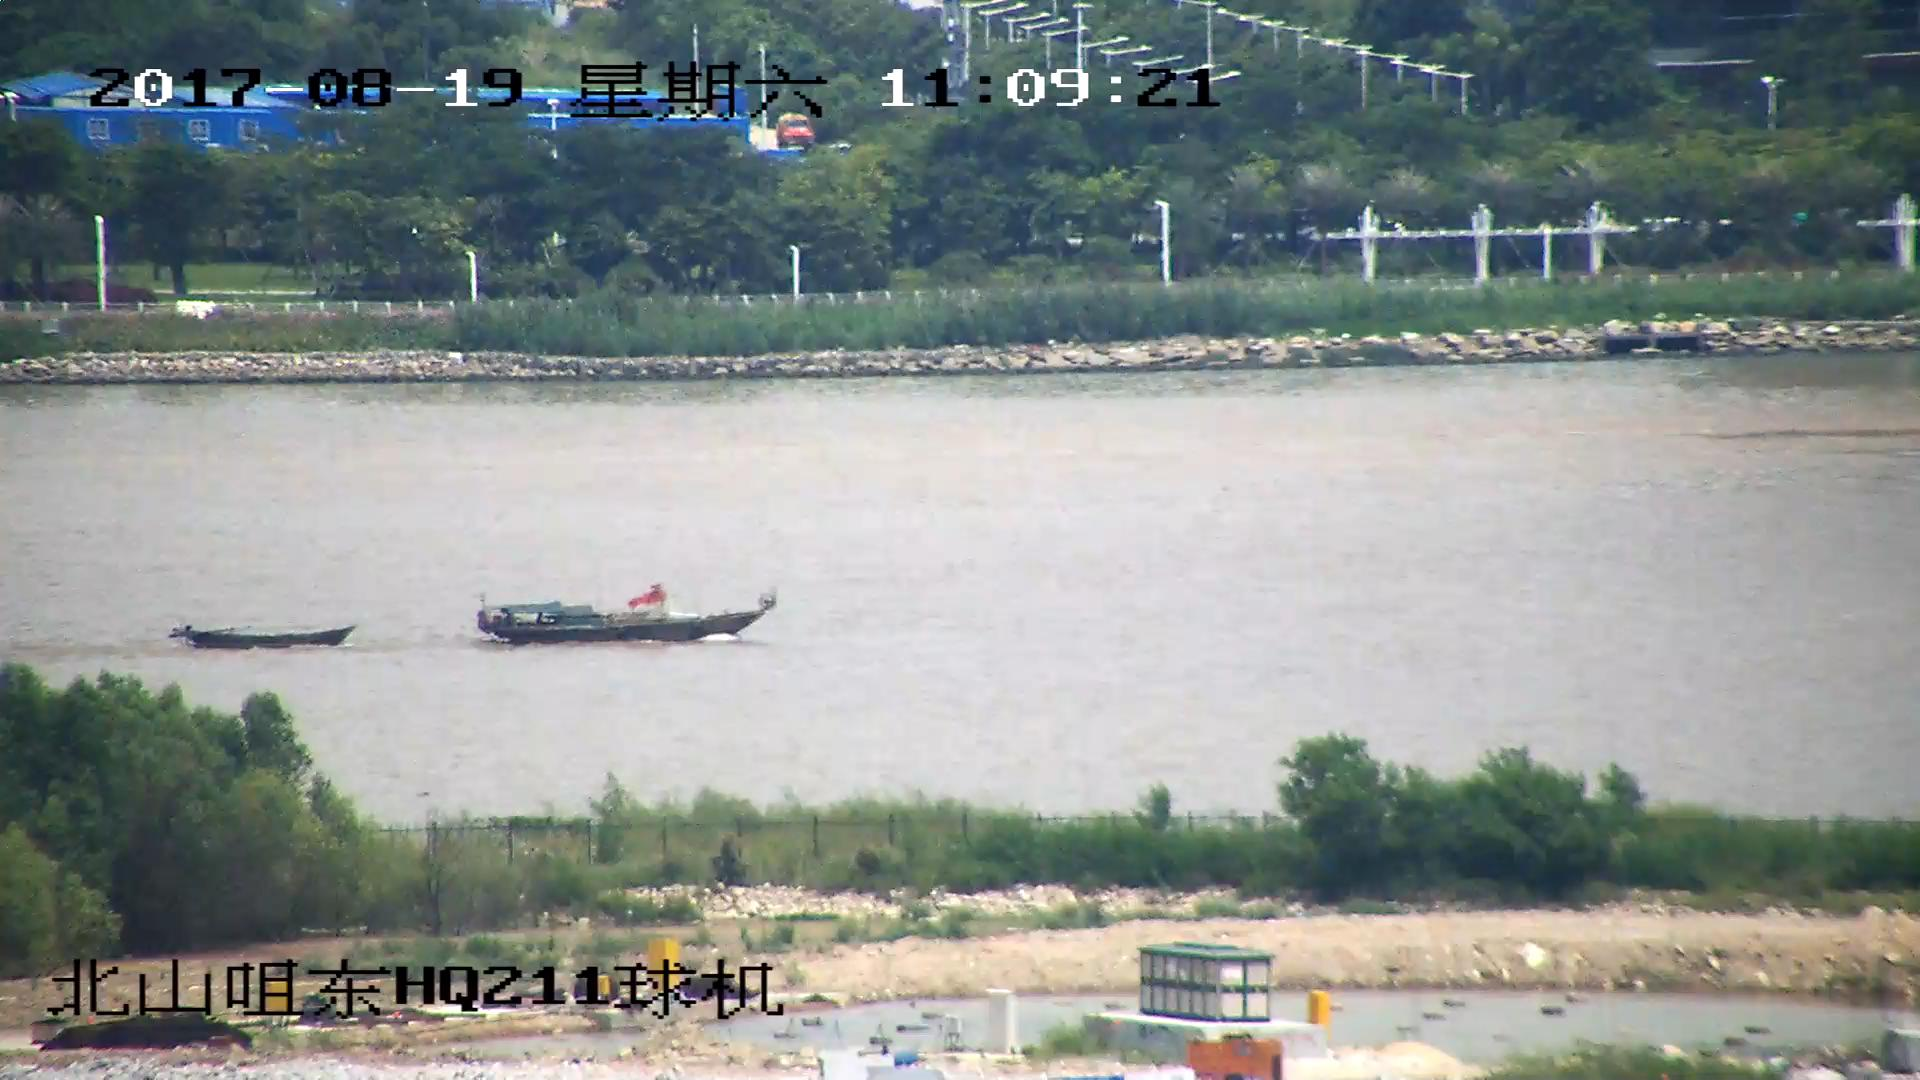fishing boat: (476, 589, 778, 642), (170, 617, 355, 651)
